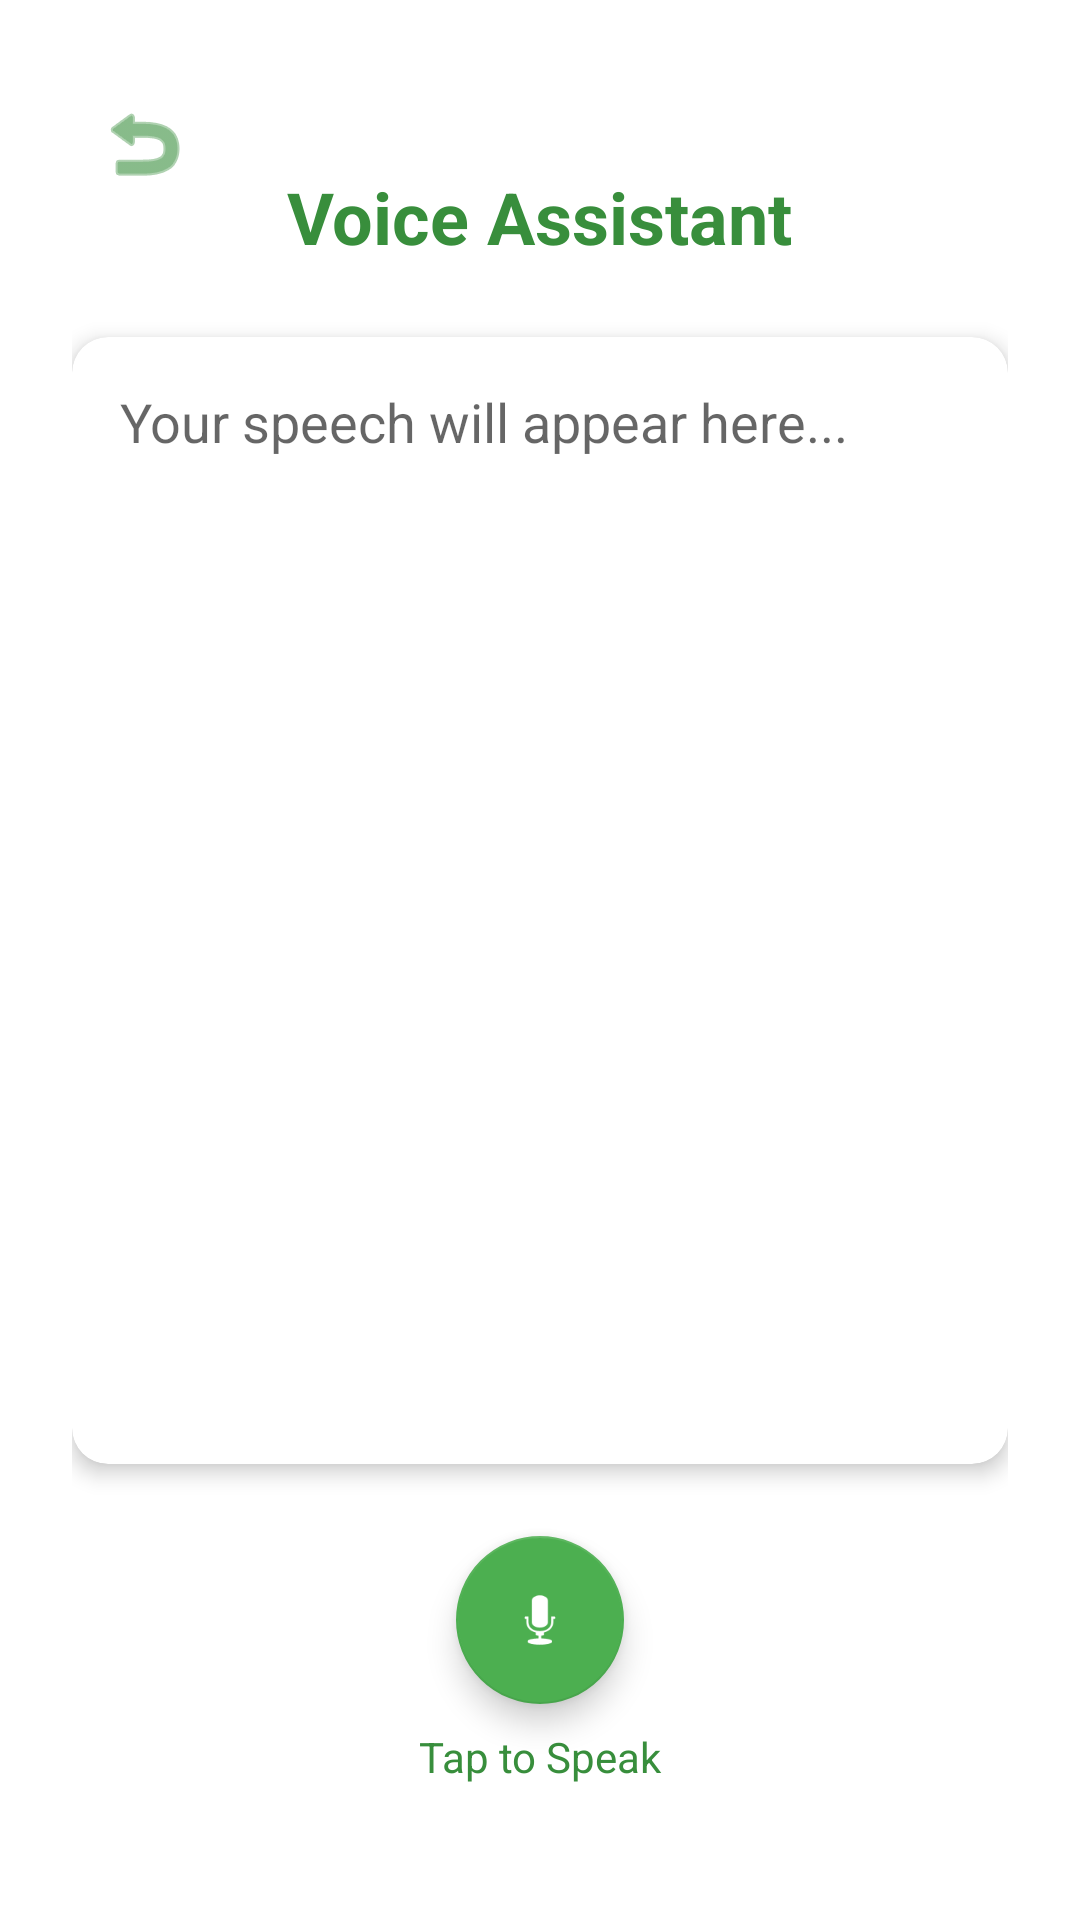

Point at icon controls on the screen. Image size 1080 x 1920, points as point (x, y).
Back to Home: point (145, 144)
